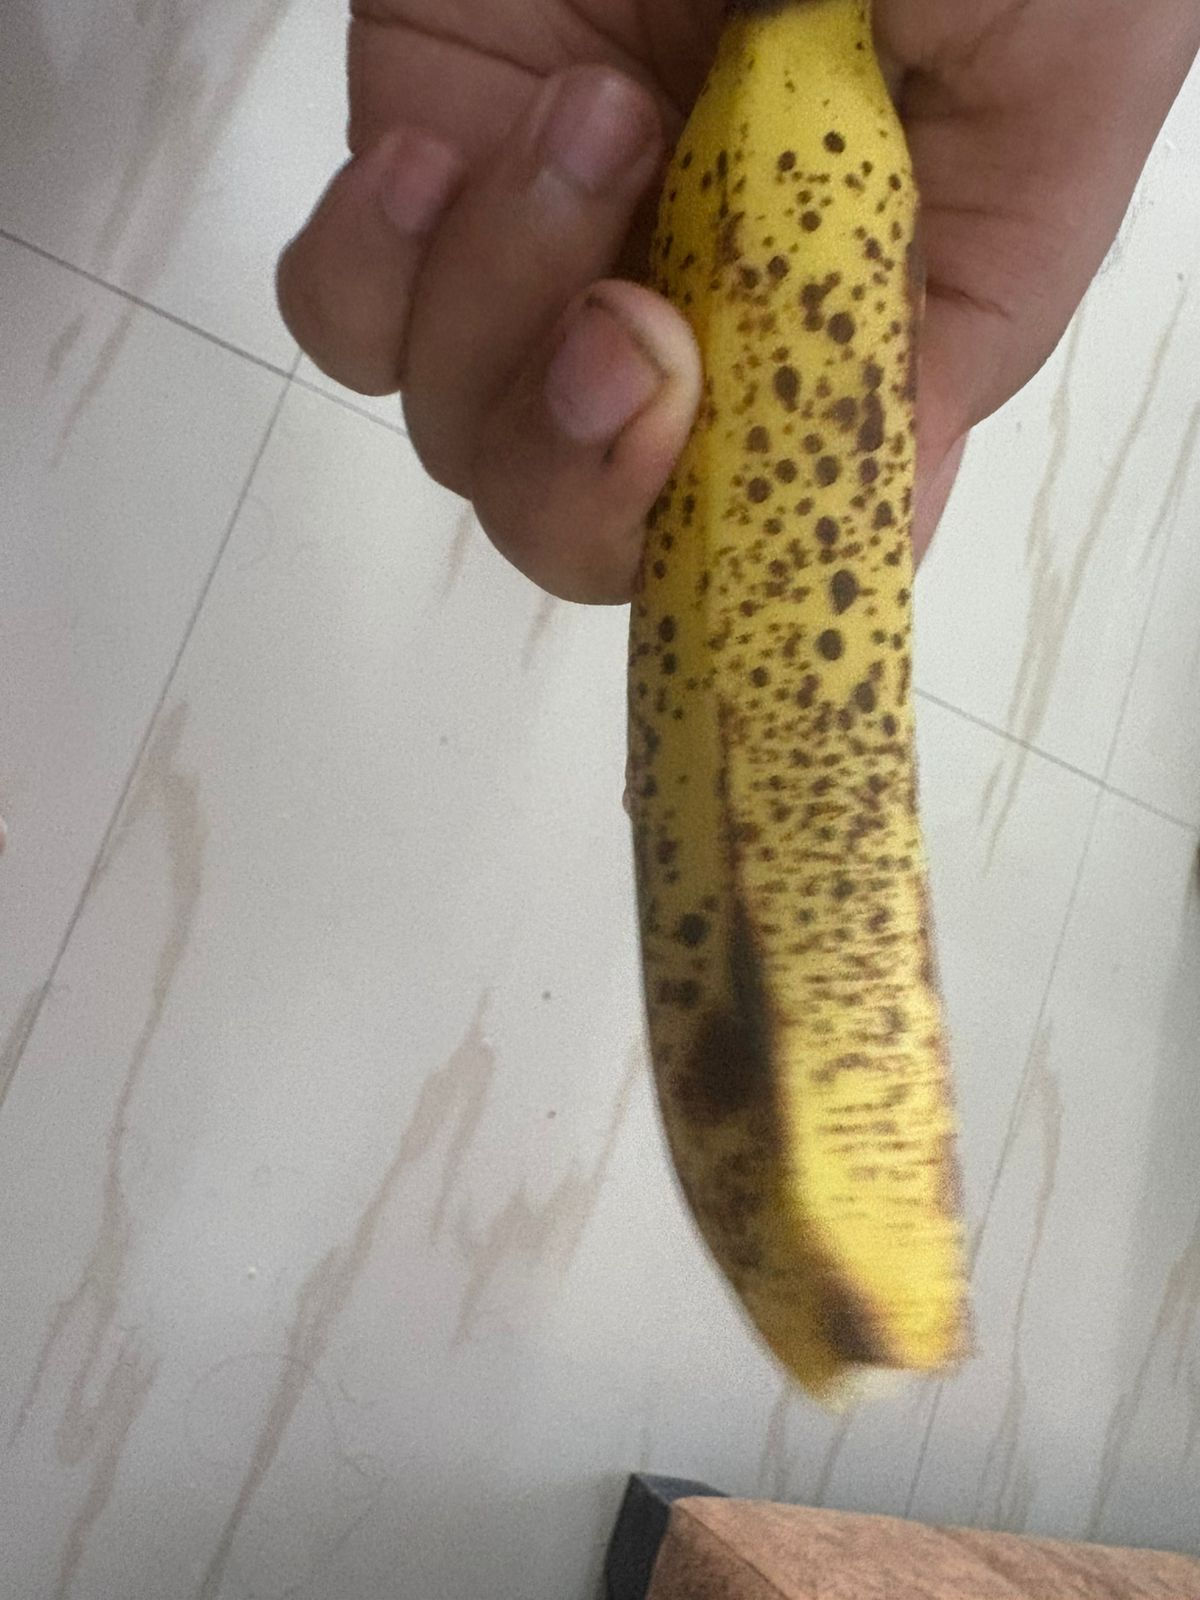wet: (626, 1, 1024, 1406)
